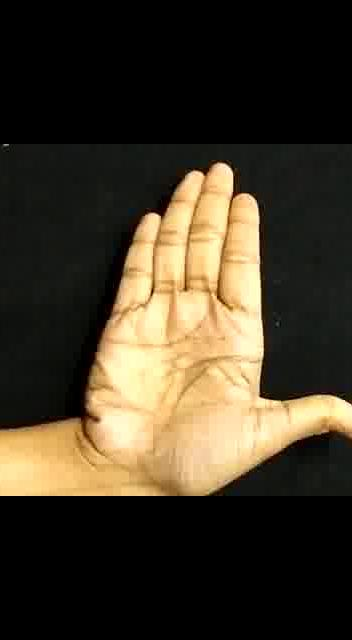ardhachandra: (64, 154, 352, 496)
